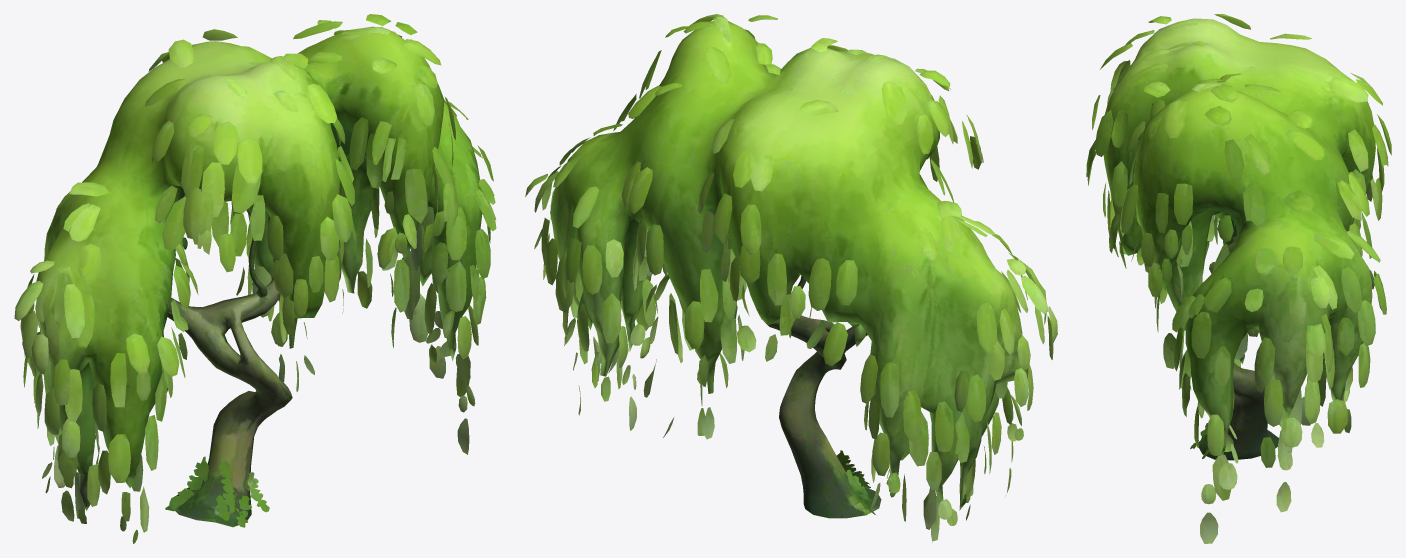
File: moon_willow.glb
The picture shows the model from 3 angles, left to right: view 1: azimuth 30°, elevation 25°; view 2: azimuth 150°, elevation 25°; view 3: azimuth 270°, elevation 25°; orthographic projection. The views are drawn at different scales.
Visible parts, largest first — view 1: tripo_node_176e0278-7949-4410-ab5e-40ee05be85a7; view 2: tripo_node_176e0278-7949-4410-ab5e-40ee05be85a7; view 3: tripo_node_176e0278-7949-4410-ab5e-40ee05be85a7.
Part boxes in pixels (x1=…): tripo_node_176e0278-7949-4410-ab5e-40ee05be85a7: x1=14, y1=14, x2=496, y2=543; tripo_node_176e0278-7949-4410-ab5e-40ee05be85a7: x1=525, y1=14, x2=1057, y2=542; tripo_node_176e0278-7949-4410-ab5e-40ee05be85a7: x1=1086, y1=14, x2=1391, y2=543.
Bounding box in the file's own units: 0.9995 × 0.8999 × 0.5777.
1 material, 1 textured.
